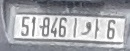1: (31, 16, 36, 37)
4: (50, 17, 58, 37)
5: (21, 16, 30, 36)
6: (107, 18, 116, 41), (59, 18, 67, 37)
8: (42, 17, 50, 37)
waw: (80, 21, 92, 35)
